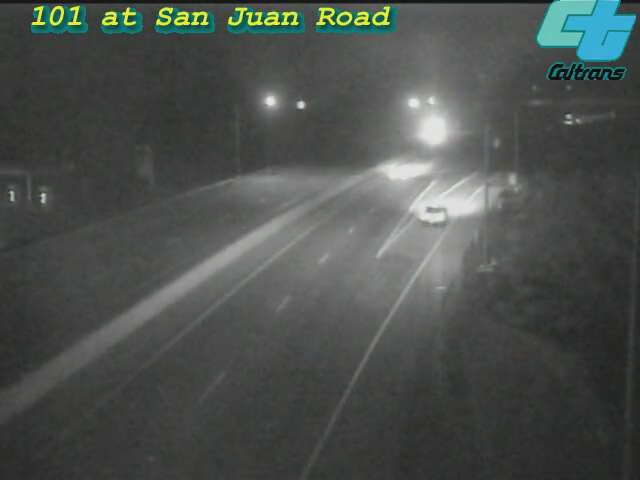vehicle: (366, 127, 446, 207), (391, 176, 471, 256), (409, 104, 459, 154), (547, 94, 597, 144)
